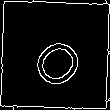O_NE: (21, 22, 89, 88)
